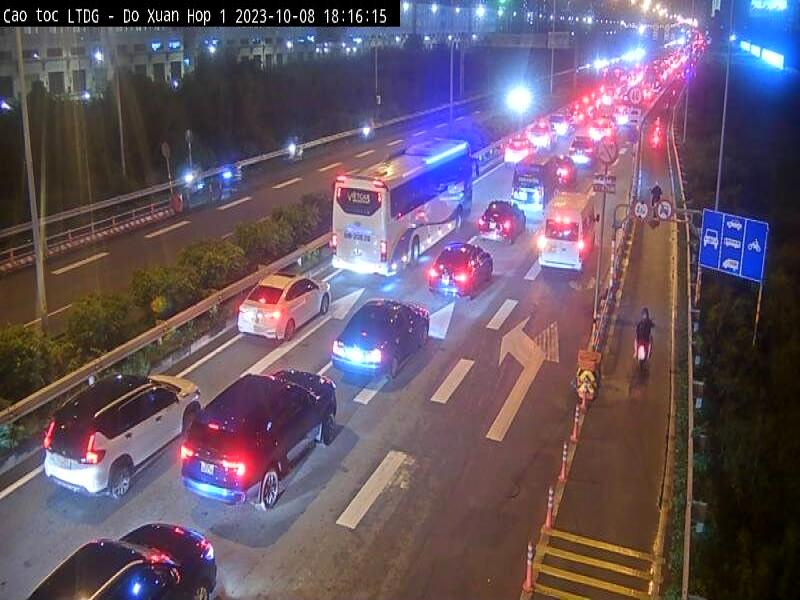bus: (333, 136, 478, 280)
car: (182, 371, 336, 511), (44, 371, 202, 497), (24, 517, 217, 600), (332, 296, 430, 384), (239, 269, 332, 346), (537, 187, 596, 271)
